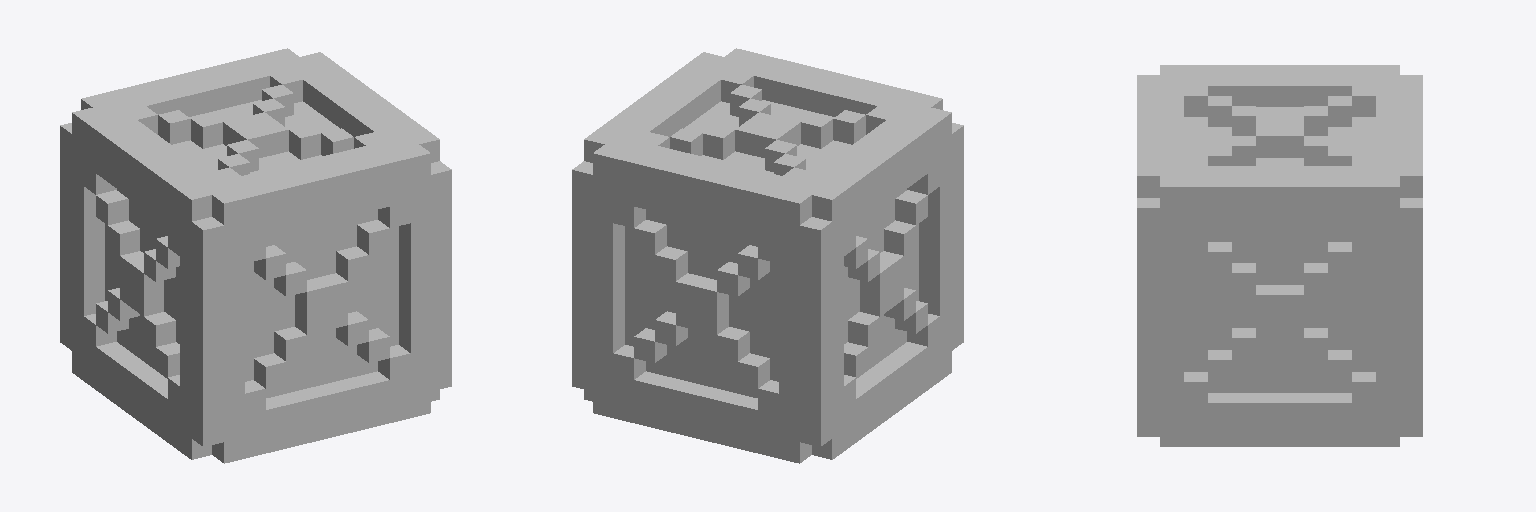
The model's file is smallBox.obj.
3 views of the same model, side by side, from view 1: azimuth 30°, elevation 25°; view 2: azimuth 150°, elevation 25°; view 3: azimuth 270°, elevation 25° (orthographic).
Visible parts, largest first — view 1: object 1; view 2: object 1; view 3: object 1.
Part boxes in pixels (x1,y1,x2,y2): object 1: (60,48,451,463); object 1: (572,48,963,463); object 1: (1137,65,1422,446).
Size of the model in its own units: 1.2 by 1.2 by 1.2.